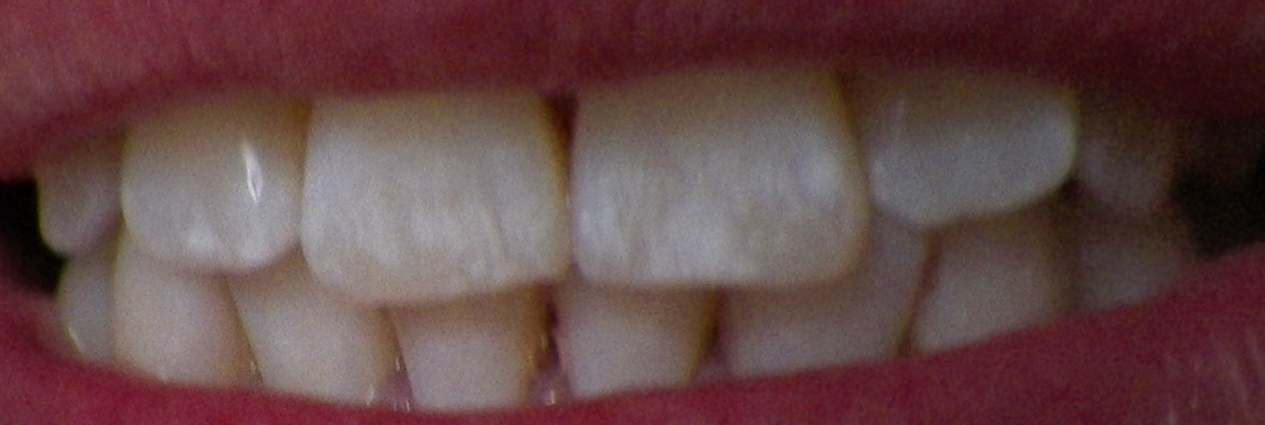boca: (32, 85, 1201, 387)
